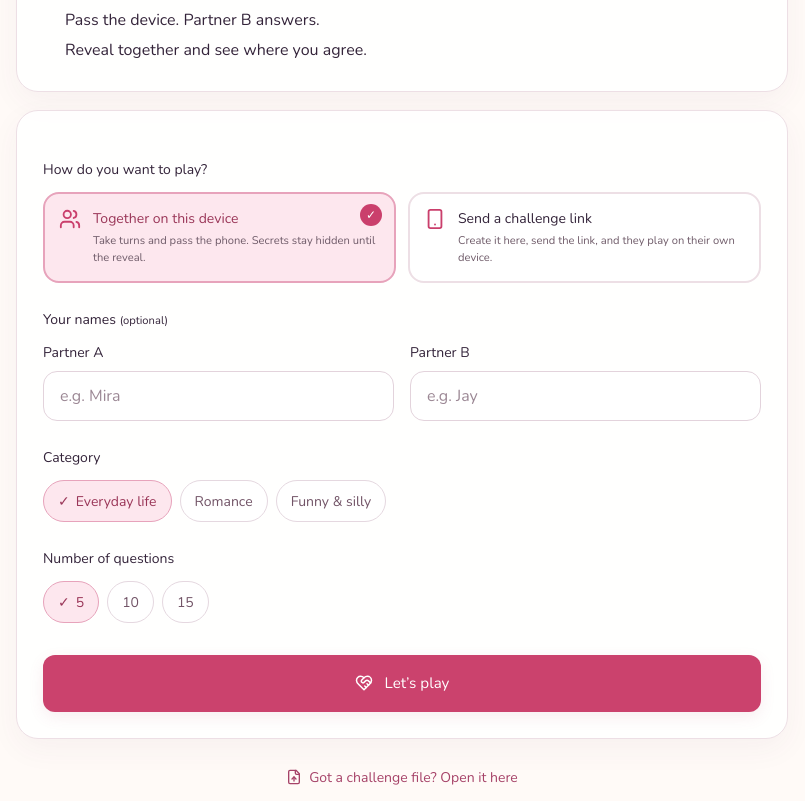
Test: components › You vs Me hides A's answers from B and reveals a normalized comparison
Later steps or results of the test are not shown.
(page scrolled)
Type "Mira" into the field labelled "Partner A" at (218, 396), box [43,371,394,421]
Type "Jay" into the field labelled "Partner B" at (586, 396), box [410,371,761,421]
Click the button "Let’s play" at (402, 683), box [43,655,761,712]
(page scrolled)
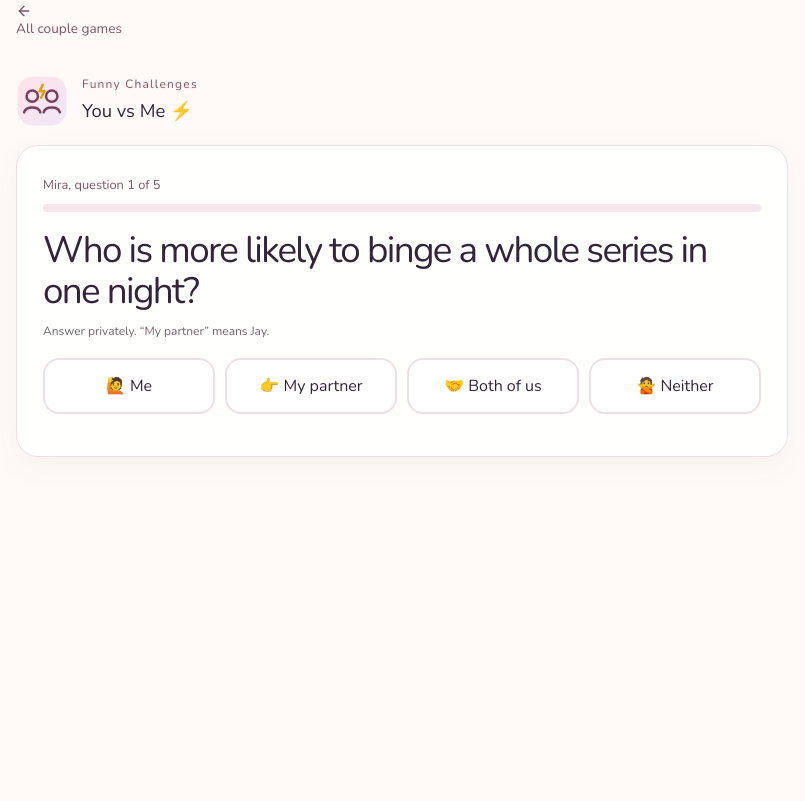
Click the button "🙋 Me" at (129, 386), box [43,358,215,414]
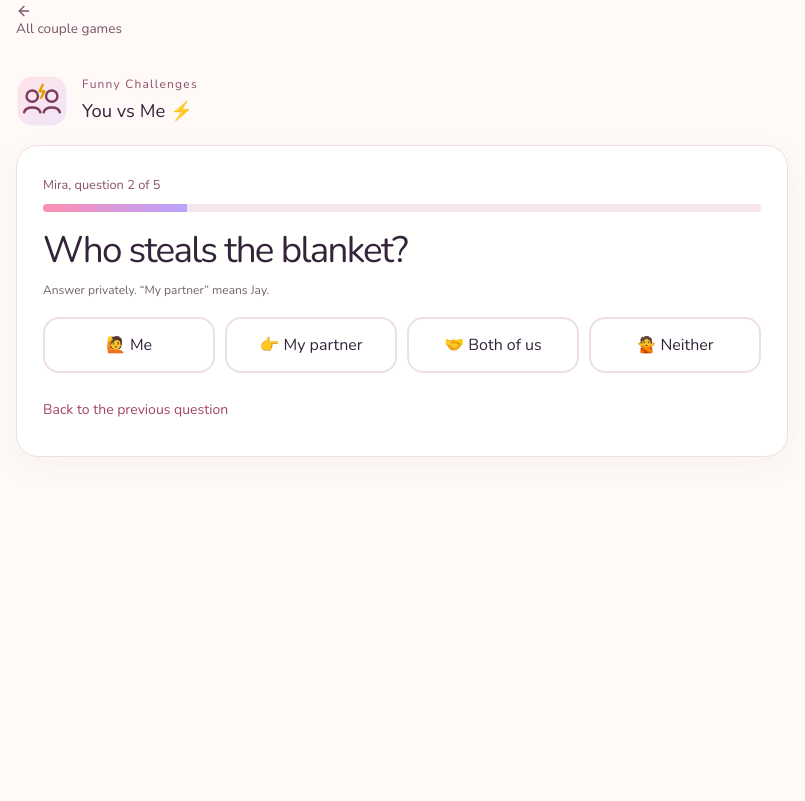
Click the button "🙋 Me" at (129, 345), box [43,317,215,373]
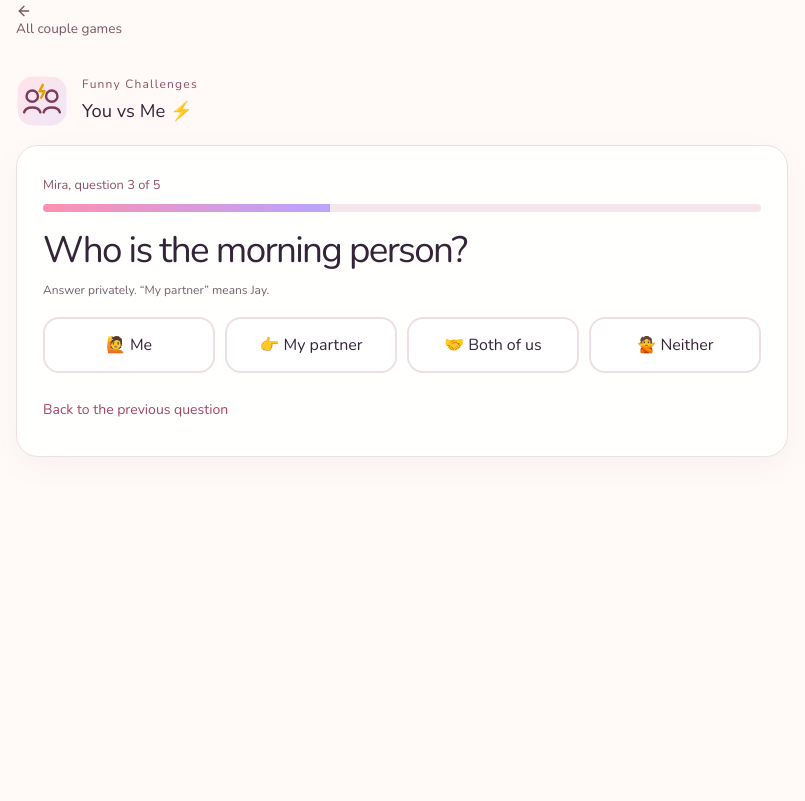
Click the button "🙋 Me" at (129, 345), box [43,317,215,373]
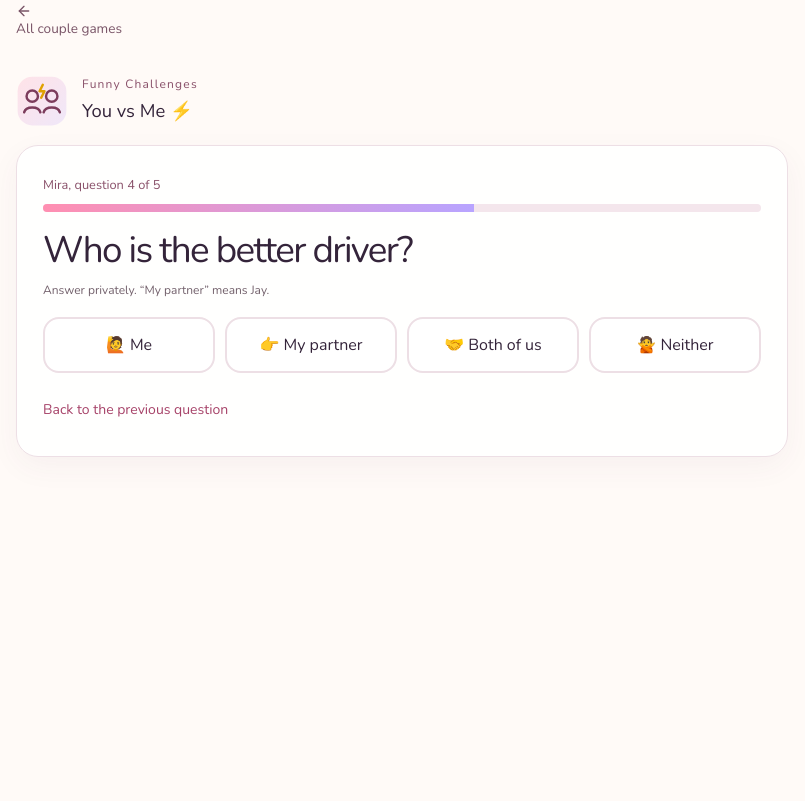
Click the button "🙋 Me" at (129, 345), box [43,317,215,373]
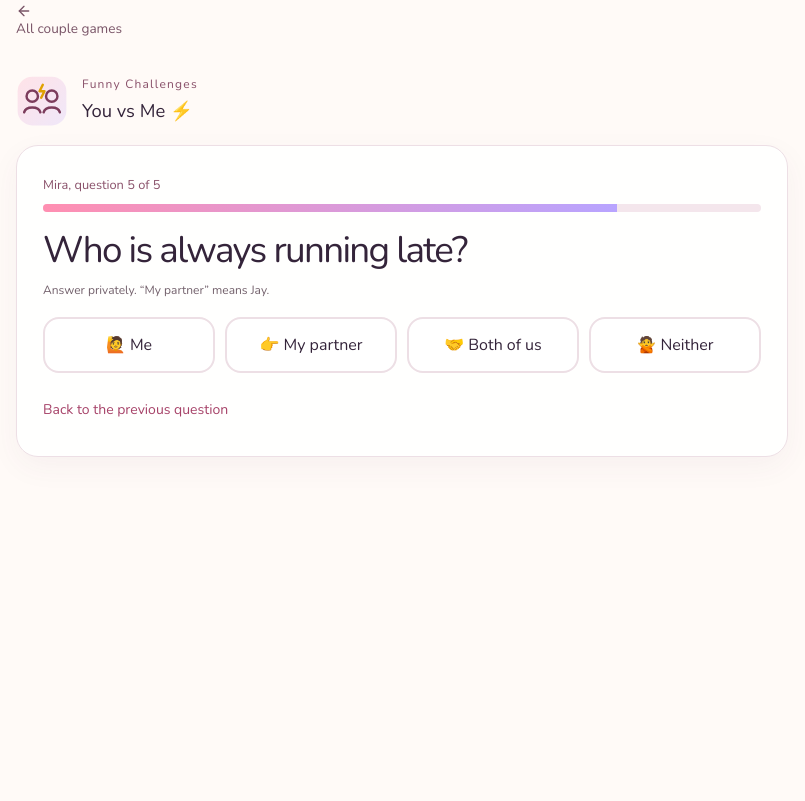
Click the button "🙋 Me" at (129, 345), box [43,317,215,373]
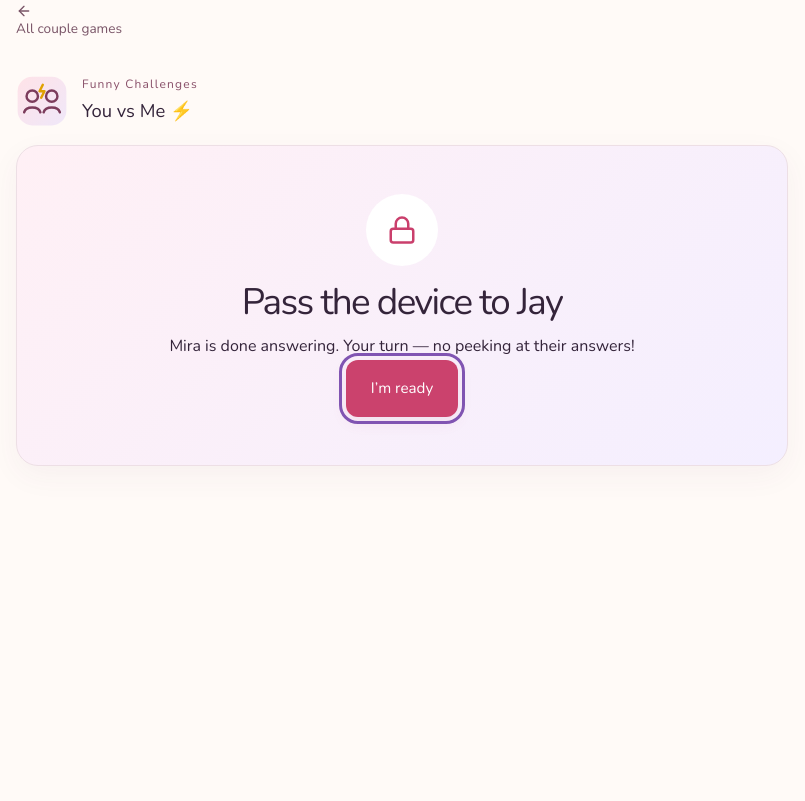
Now the heading "Pass the device to Jay" is shown, box [242,277,562,327]
